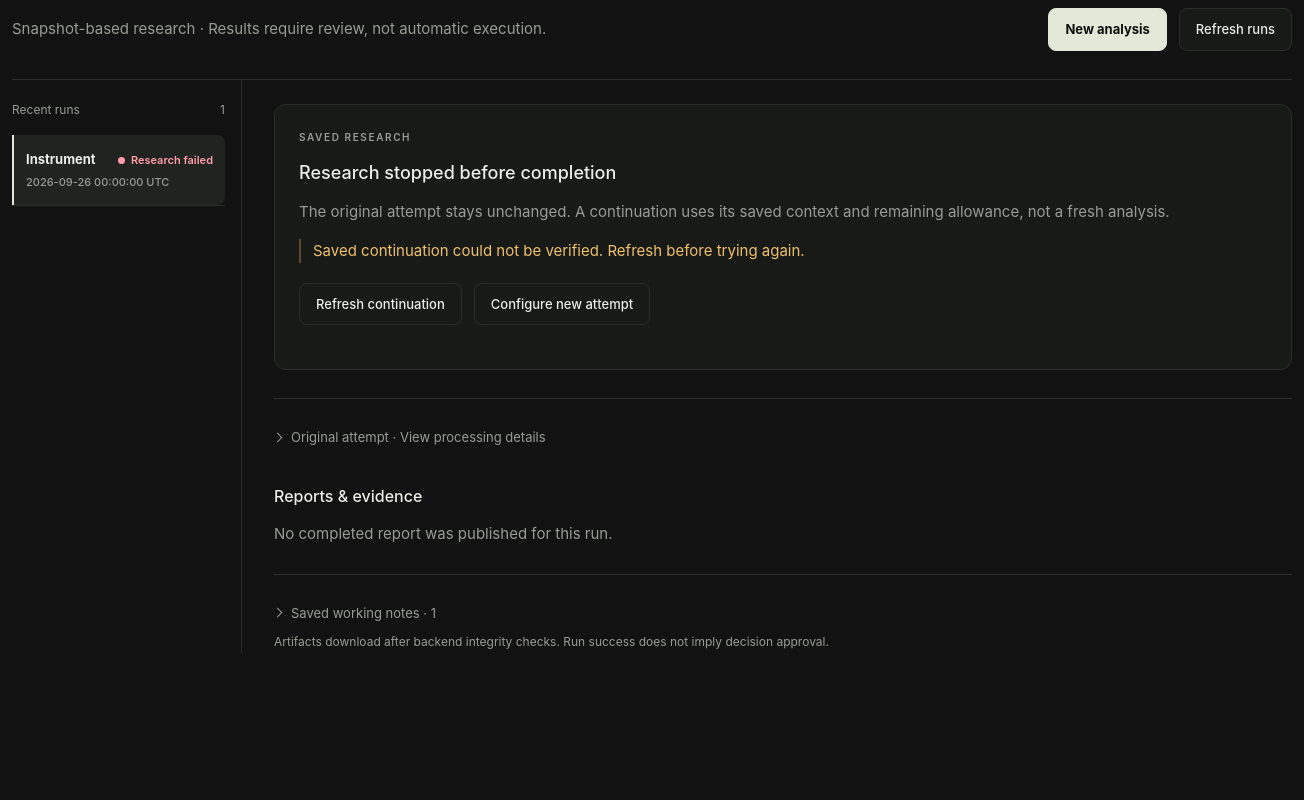
Test case: separates failed-run working notes from completed reports and fetches only on reader request
Expected: the text "No completed report was published for this run." is shown, [274,524,612,543]
Click the heading "Saved working notes · 1" at (364, 613), box [291,605,436,621]
(page scrolled)
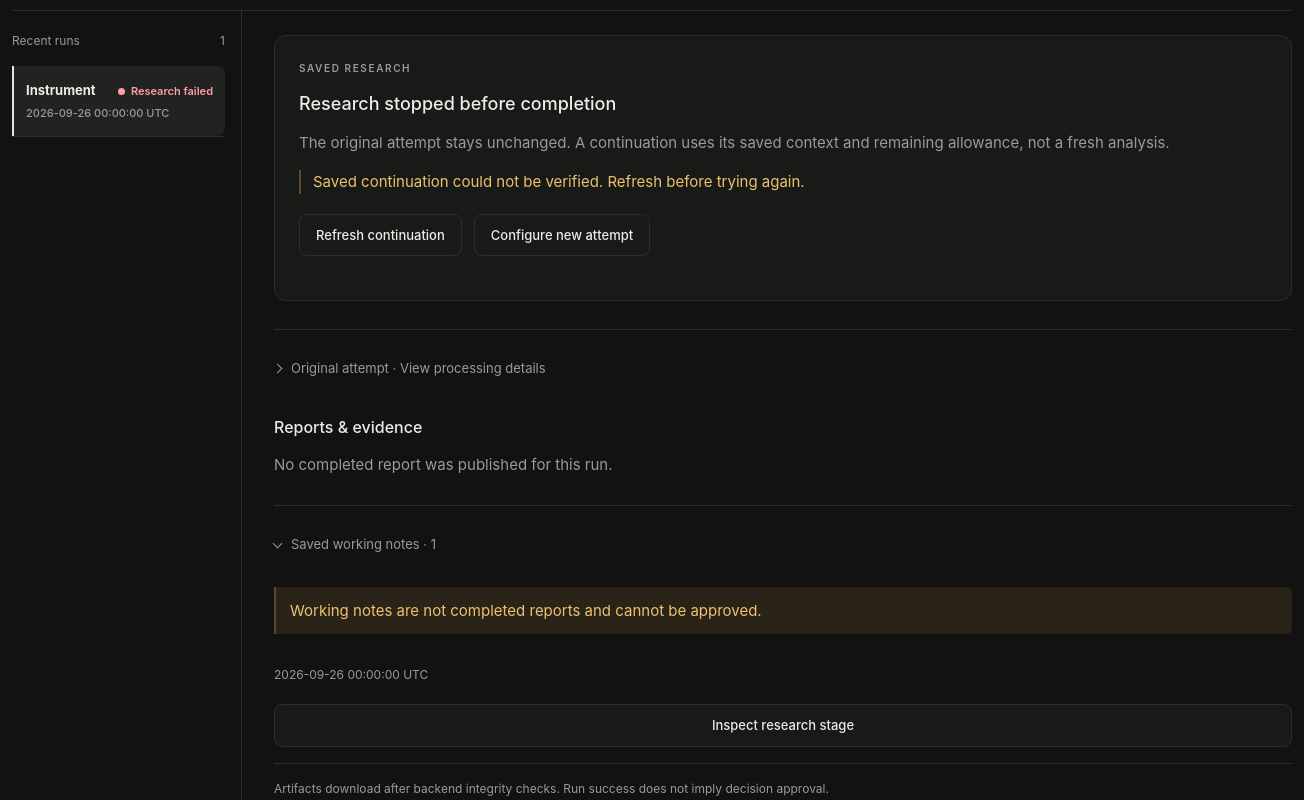
Click the button "Inspect research stage" at (783, 725), box [274,704,1292,747]
(page scrolled)
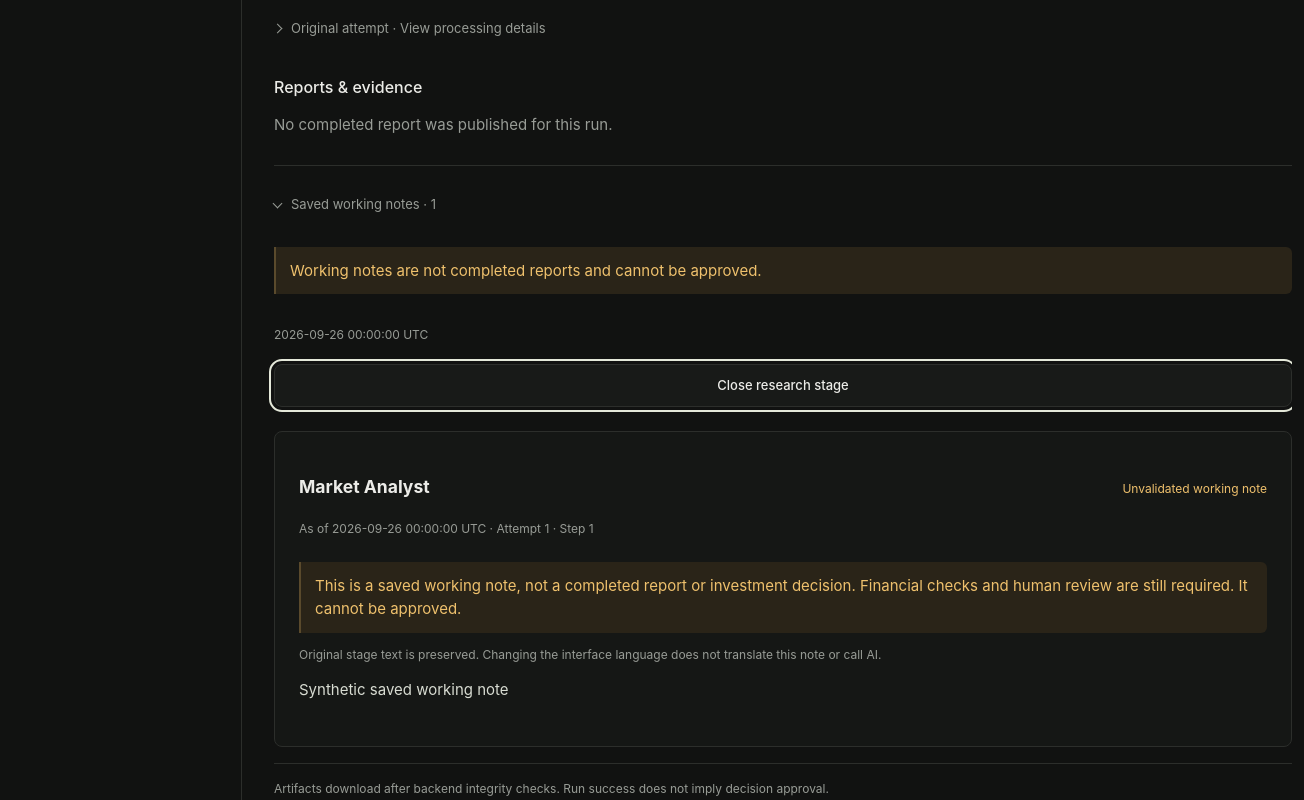
Expected: the text "Synthetic saved working note" is shown, [299,680,509,699]
